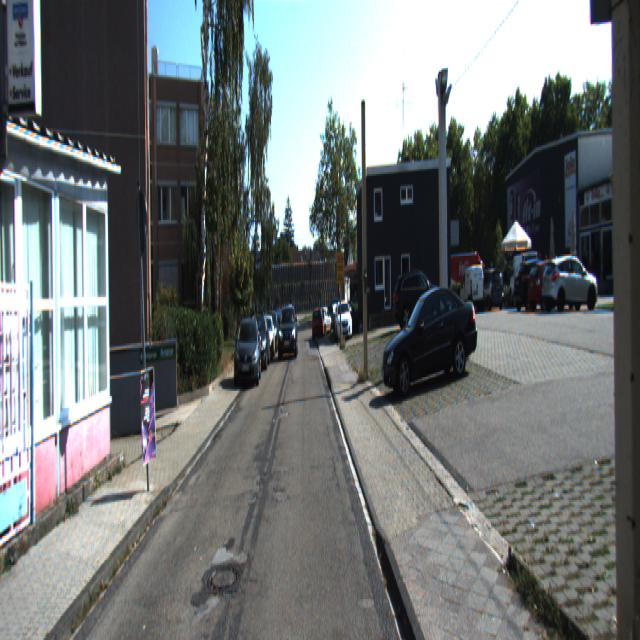Car: (378, 273, 484, 398), (541, 251, 601, 310), (394, 271, 446, 338), (526, 254, 583, 311), (513, 256, 570, 312), (232, 312, 262, 389), (509, 248, 539, 306), (244, 315, 270, 374), (477, 264, 506, 310), (459, 258, 486, 307), (277, 302, 299, 358), (334, 297, 353, 340), (312, 306, 325, 342)
